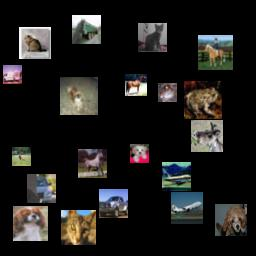airplane: (171, 192, 203, 224), (162, 162, 191, 191)
automobile: (27, 174, 56, 203), (99, 189, 128, 218)
cat: (61, 210, 96, 245), (19, 27, 51, 59), (138, 23, 167, 52)
deer: (191, 120, 223, 152), (12, 147, 31, 166)
dog: (60, 77, 98, 115), (13, 206, 48, 241), (215, 204, 247, 236), (130, 144, 149, 163)
frog: (184, 81, 222, 119), (158, 83, 177, 102)
truck: (72, 15, 101, 44), (3, 65, 22, 84)
